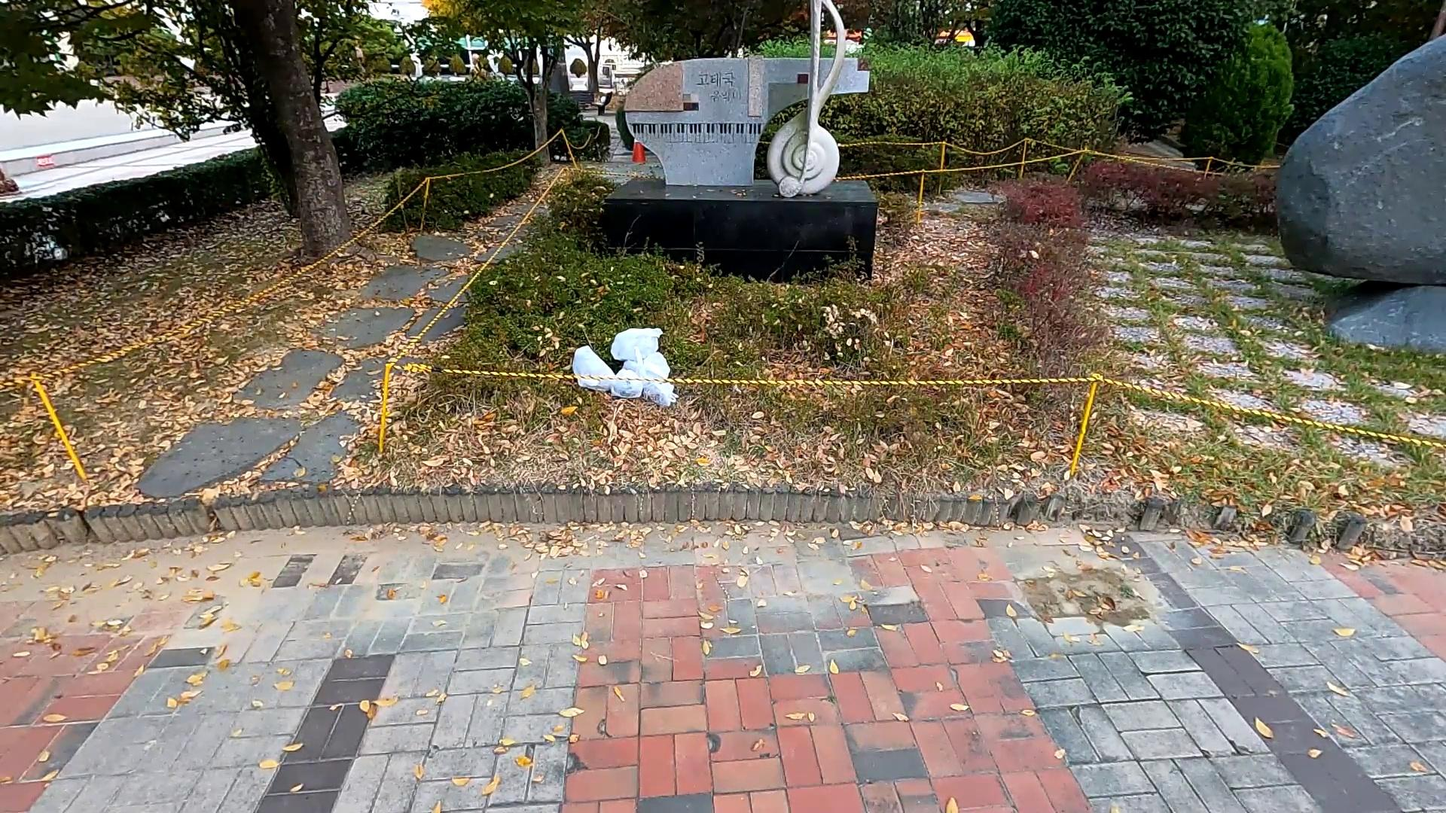trash: (575, 342, 623, 393), (610, 325, 667, 366), (622, 348, 677, 380), (607, 365, 650, 402), (640, 383, 680, 412)
